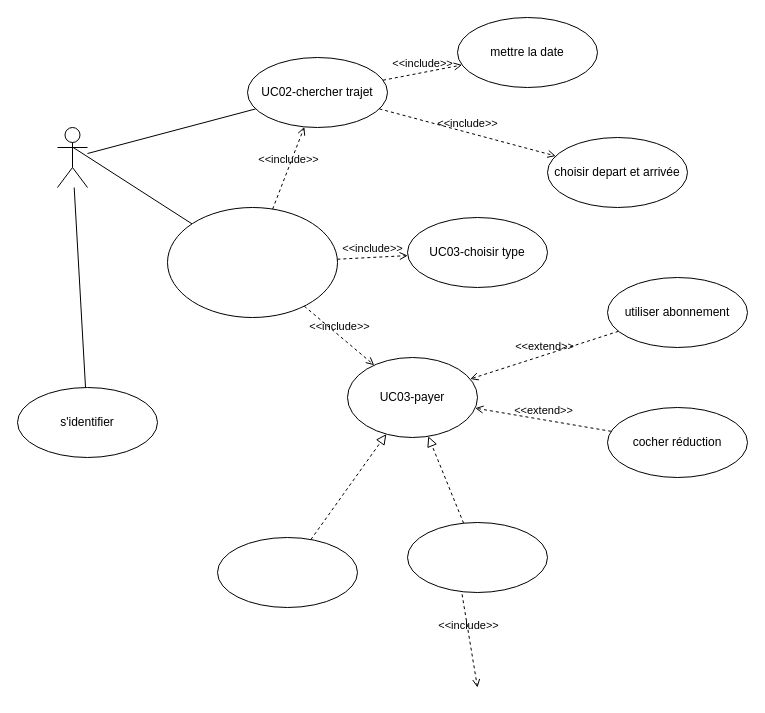
The diagram is 765 pixels wide and 713 high, and some of its shapes have lost their labels. The shapes that lost their labels are listed below. From the top down, each one's box as (x1, y1, x2, y2) in pixels, then its label:
(56, 126, 88, 188): Client
(166, 206, 338, 318): UC01- reserver billet
(216, 536, 358, 608): payer carte
(406, 522, 548, 592): payer paypal
